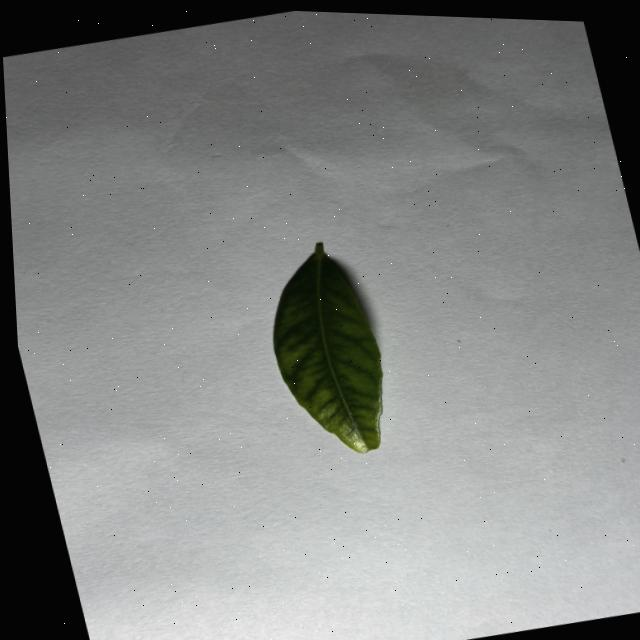greening: (272, 242, 381, 452)
